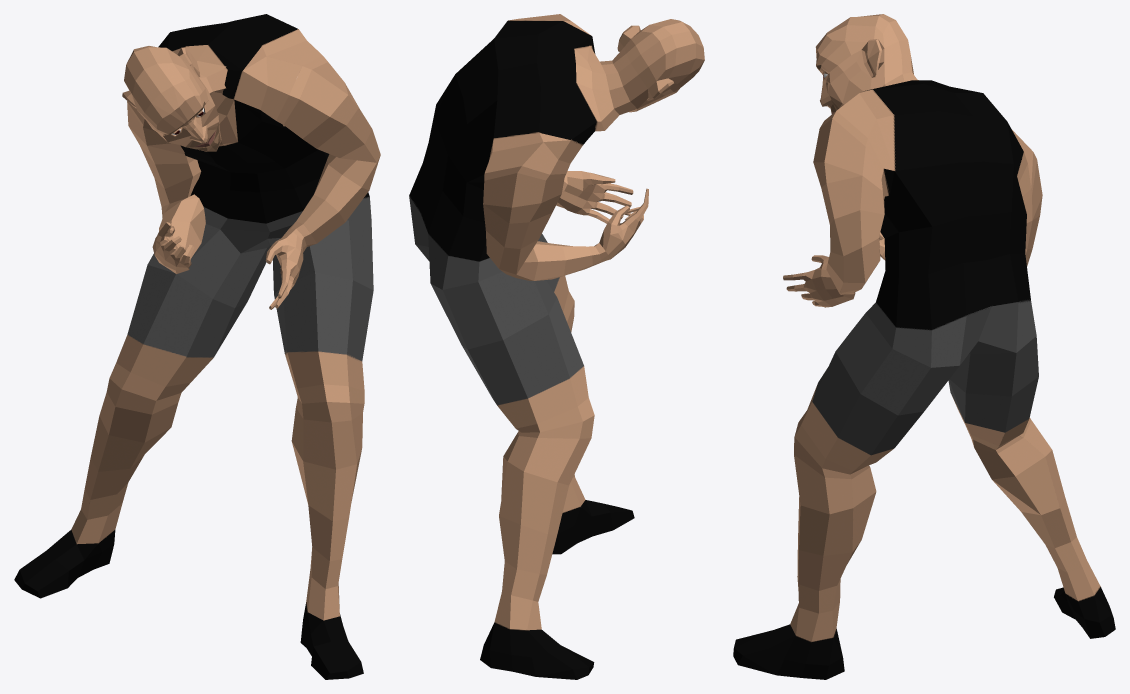
The model's file is PlayerDead(12).obj.
3 renders of one model, left to right at view 1: azimuth 30°, elevation 25°; view 2: azimuth 150°, elevation 25°; view 3: azimuth 270°, elevation 25°, orthographic. The views are drawn at different scales.
Visible parts, largest first — view 1: Plane002; view 2: Plane002; view 3: Plane002.
Part boxes in pixels (<box>): Plane002: <box>14,14,380,679</box>; Plane002: <box>409,14,704,679</box>; Plane002: <box>733,14,1115,679</box>.
Size of the model in its own units: 649 by 1453 by 851.
